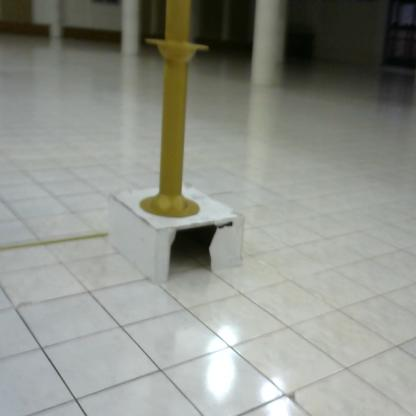pole: (131, 1, 215, 228)
